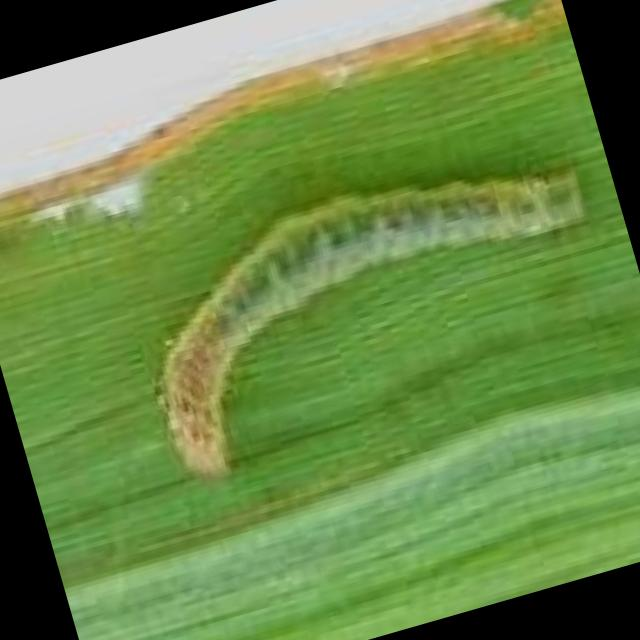leaf-folder: (93, 118, 638, 508)
